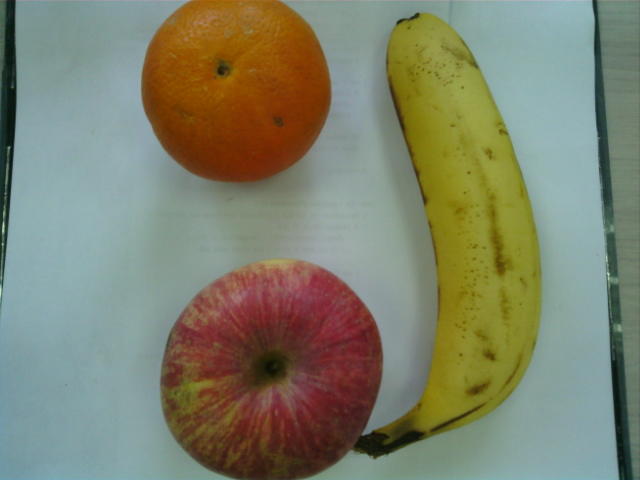normal_apple: (159, 258, 385, 480)
normal_banana: (384, 11, 547, 478)
normal_orange: (140, 2, 332, 186)
